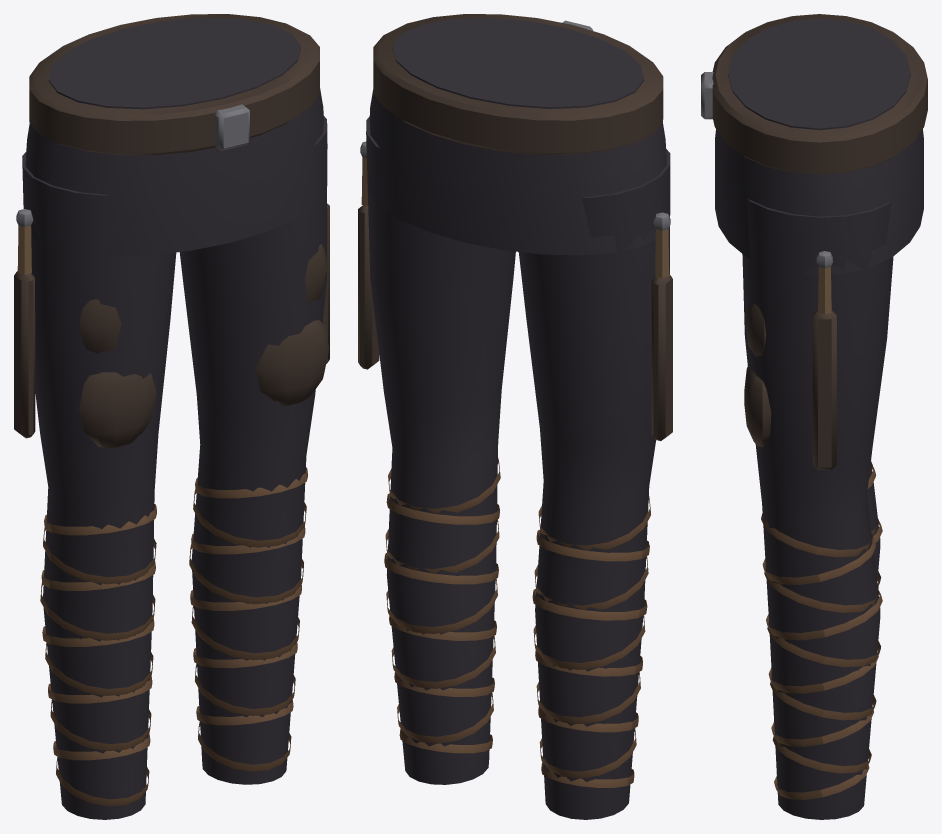
Rendered from duskrunner_leggings.glb.
The picture shows the model from 3 angles, left to right: view 1: azimuth 30°, elevation 25°; view 2: azimuth 150°, elevation 25°; view 3: azimuth 270°, elevation 25°; orthographic projection. The views are drawn at different scales.
Visible parts, largest first — view 1: duskrunner_leggings; view 2: duskrunner_leggings; view 3: duskrunner_leggings.
Part boxes in pixels (bbox=[...]): duskrunner_leggings: bbox=[14, 14, 329, 819]; duskrunner_leggings: bbox=[358, 14, 672, 819]; duskrunner_leggings: bbox=[701, 14, 927, 819].
Size of the model in its own units: 0.3185 by 0.7066 by 0.2084.
